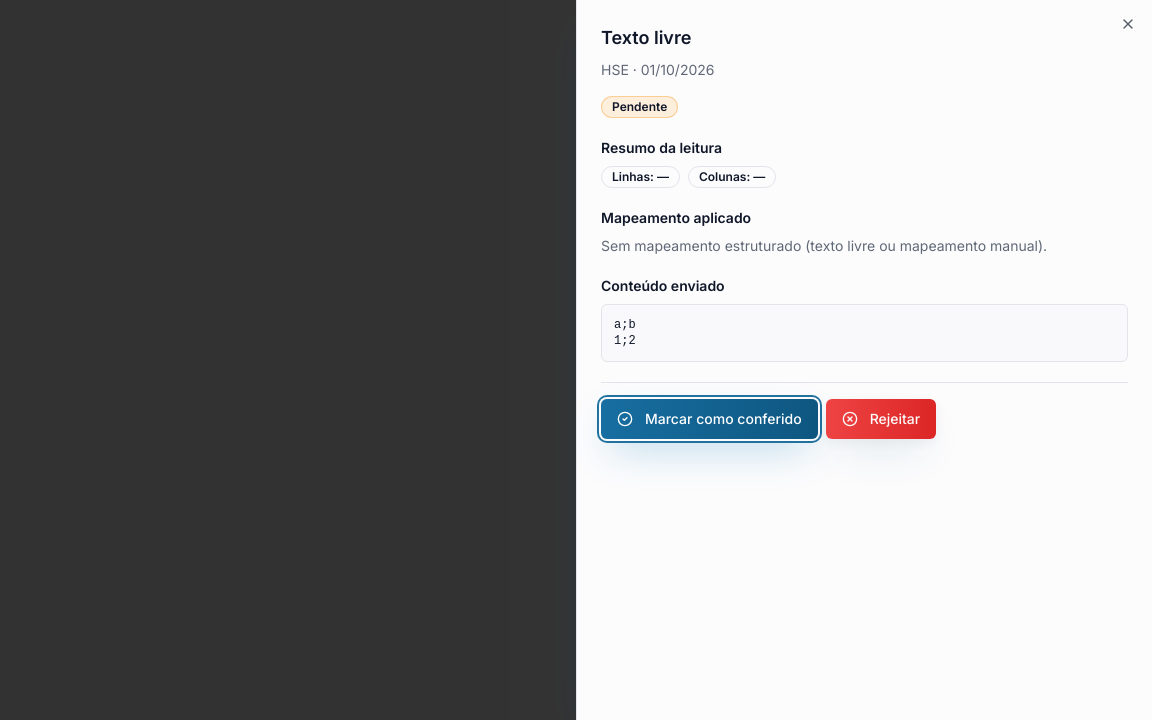
Test: Conferência de importações — travas na tela › rejeitar sem motivo é bloqueado e não chama o servidor
The width and height of the screenshot is (1152, 720).
Click the button "Rejeitar". click: x=881, y=419
box: [826,399,936,439]
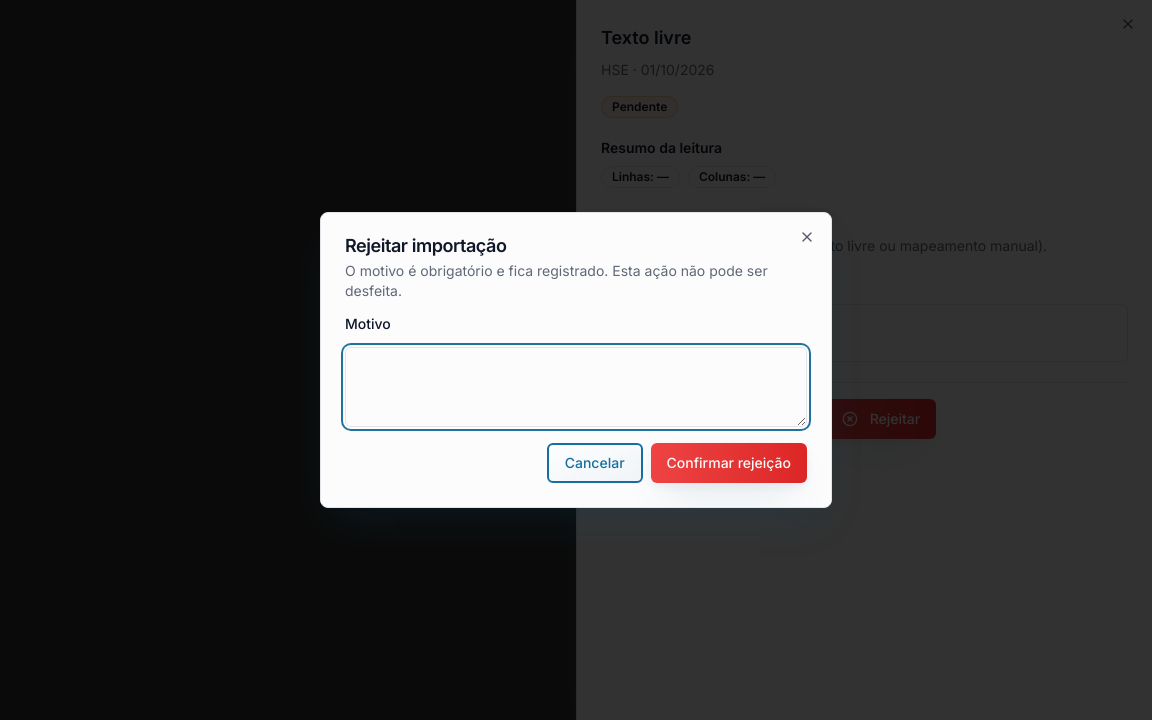
Click the button "Confirmar rejeição". click: x=729, y=463
box: [651,443,807,483]
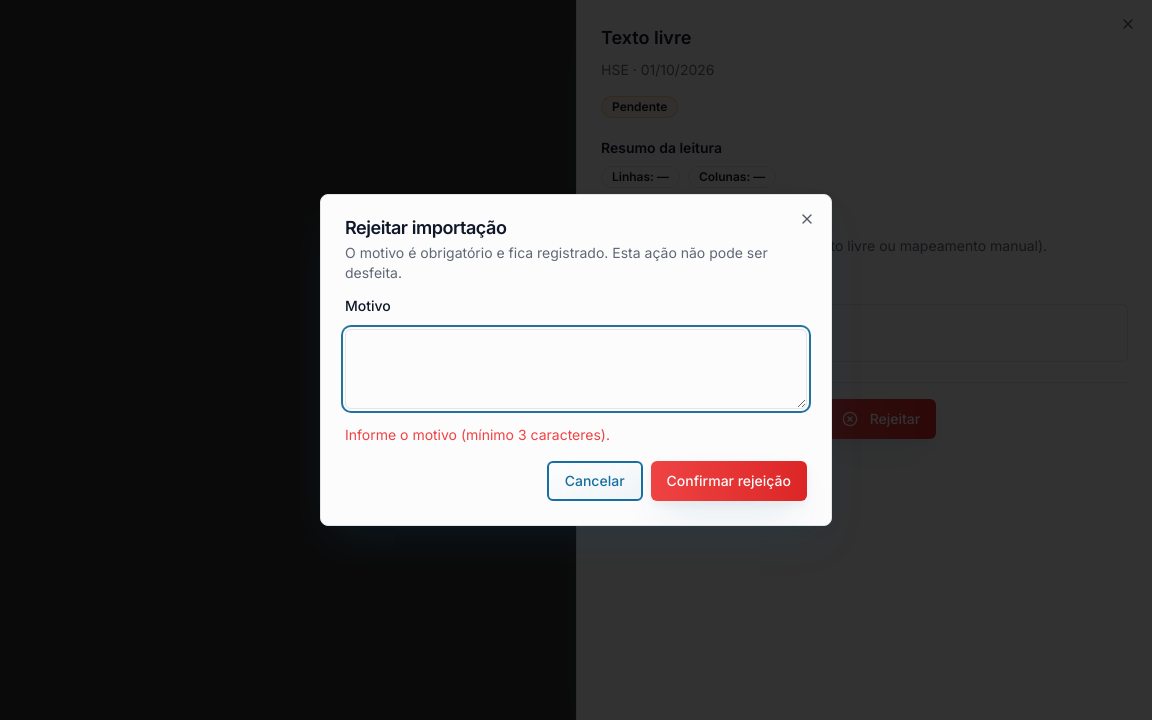
Result: the text "Informe o motivo (mínimo 3 caracteres)." is shown at [345,426,610,443]
